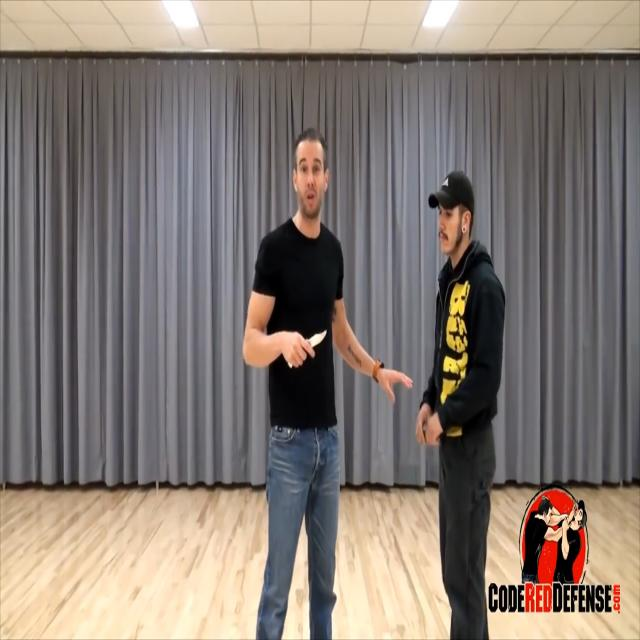knife: (309, 327, 329, 351)
